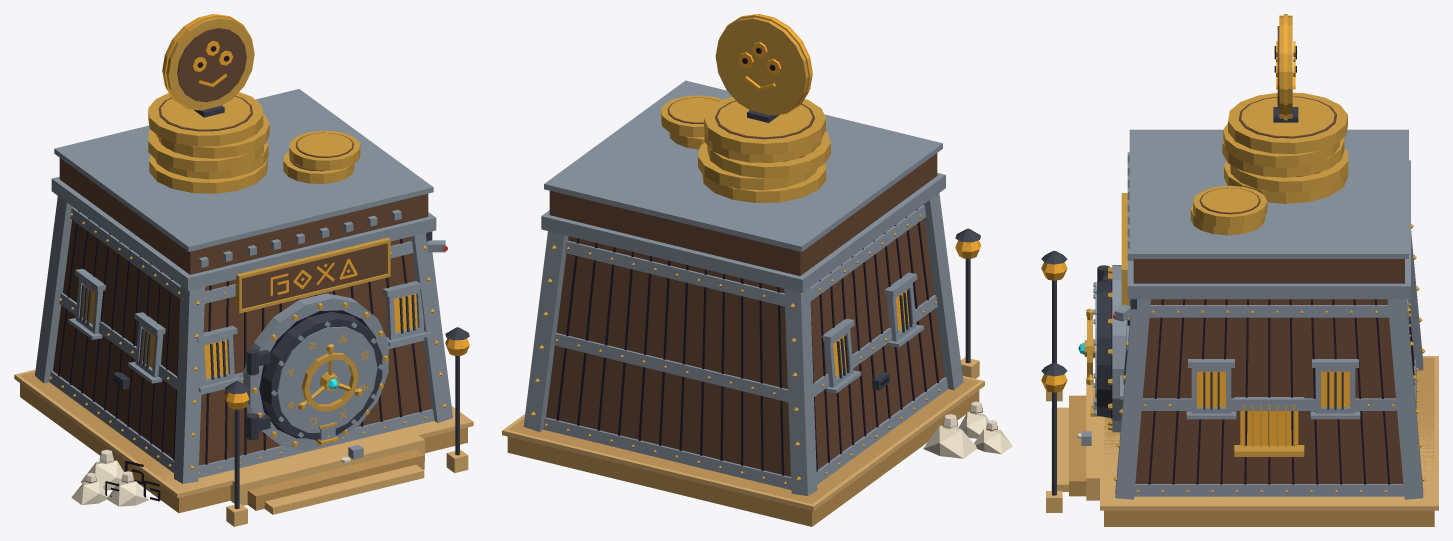
Rendered from Bldg_Bank.obj.
3 views of the same model, side by side, from view 1: azimuth 30°, elevation 25°; view 2: azimuth 150°, elevation 25°; view 3: azimuth 270°, elevation 25° (orthographic). The views are drawn at different scales.
Parts seen in each view (by area): view 1: Bldg_Bank_Body, Bldg_Bank_Vault_Door, Bldg_Bank_Coin, Bldg_Bank_Dial; view 2: Bldg_Bank_Body, Bldg_Bank_Coin; view 3: Bldg_Bank_Body, Bldg_Bank_Vault_Door, Bldg_Bank_Coin, Bldg_Bank_Dial.
Boxes of the visible parts, x1,y1,x2,y2 form: Bldg_Bank_Body: (14, 89, 473, 526); Bldg_Bank_Vault_Door: (259, 311, 383, 440); Bldg_Bank_Coin: (162, 14, 254, 110); Bldg_Bank_Dial: (298, 343, 362, 411); Bldg_Bank_Body: (502, 80, 1012, 526); Bldg_Bank_Coin: (715, 14, 812, 115); Bldg_Bank_Body: (1041, 92, 1438, 526); Bldg_Bank_Vault_Door: (1093, 275, 1111, 417); Bldg_Bank_Coin: (1274, 14, 1296, 120); Bldg_Bank_Dial: (1078, 308, 1094, 385).
Size of the model in its own units: 10.38 by 11.21 by 9.62.
